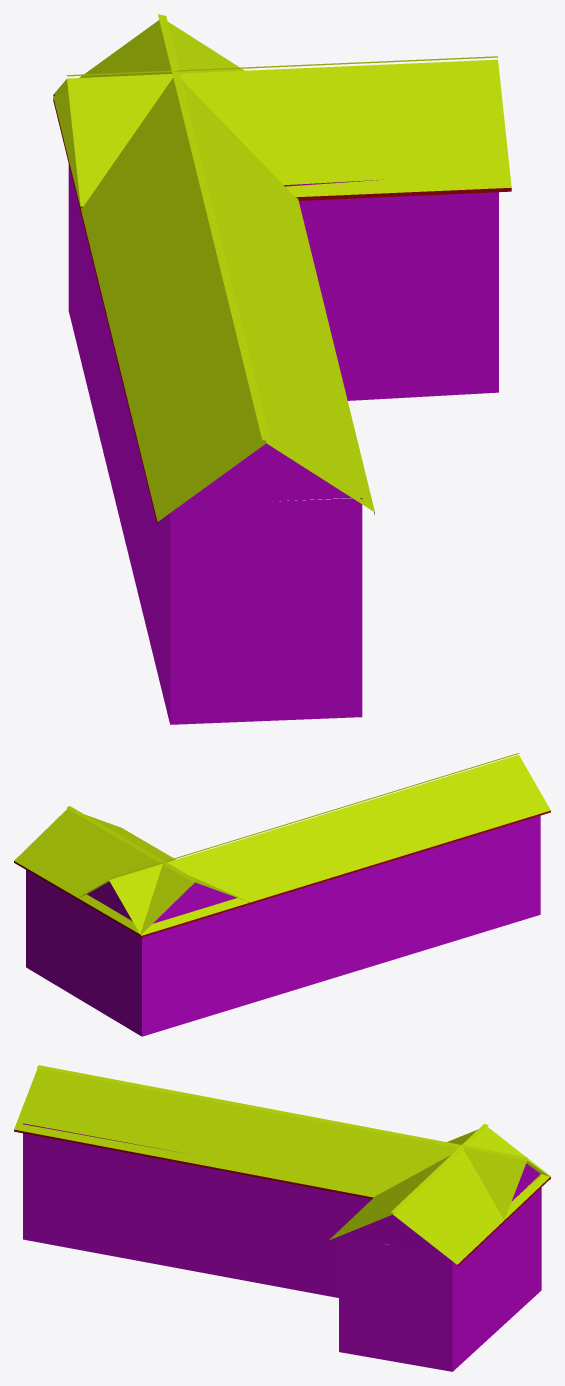
The model's file is ssm_6.glb.
3 views of the same model, one above another, from view 1: azimuth 30°, elevation 25°; view 2: azimuth 150°, elevation 25°; view 3: azimuth 270°, elevation 25° (orthographic). The views are drawn at different scales.
Parts seen in each view (by area): view 1: ssm_6; view 2: ssm_6; view 3: ssm_6.
Boxes of the visible parts, x1=… form: ssm_6: x1=53, y1=14, x2=511, y2=724; ssm_6: x1=14, y1=753, x2=550, y2=1036; ssm_6: x1=14, y1=1065, x2=550, y2=1371.
Bounding box in the file's own units: 22.74 × 8.92 × 28.5.
